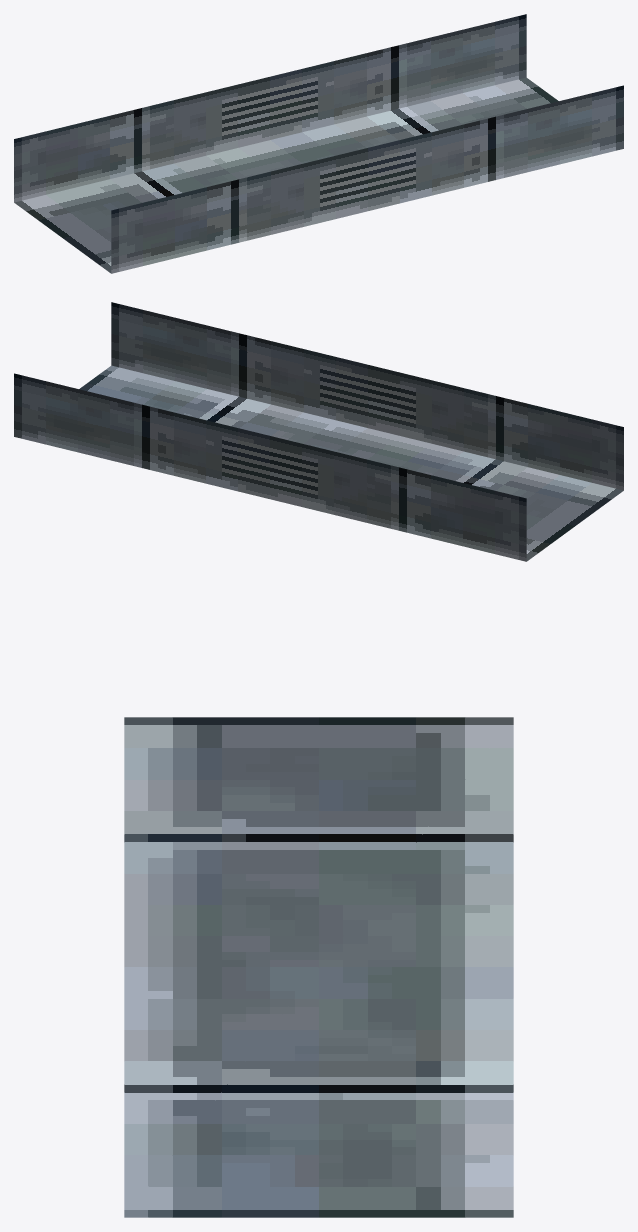
Rendered from VentilationDuct_01.glb.
3 views of the same model, one above another, from view 1: azimuth 30°, elevation 25°; view 2: azimuth 150°, elevation 25°; view 3: azimuth 270°, elevation 25° (orthographic). The views are drawn at different scales.
Visible parts, largest first — view 1: VENTILATIONDUCT_01; view 2: VENTILATIONDUCT_01; view 3: VENTILATIONDUCT_01.
Part boxes in pixels (x1,y1,x2,y2): VENTILATIONDUCT_01: (14, 14, 623, 273); VENTILATIONDUCT_01: (14, 302, 623, 561); VENTILATIONDUCT_01: (124, 717, 513, 1217).
Bounding box in the file's own units: 3.75 × 0.443 × 1.23.
1 material, 1 textured.
